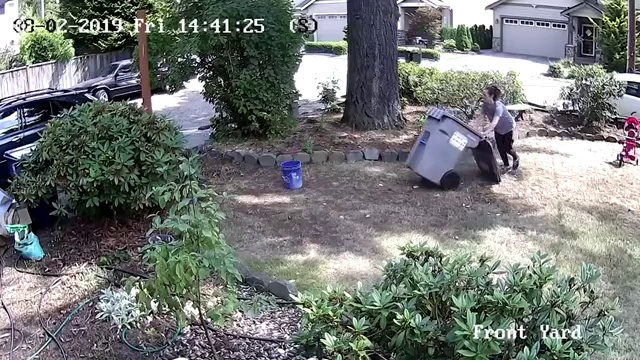face: (481, 90, 493, 102)
